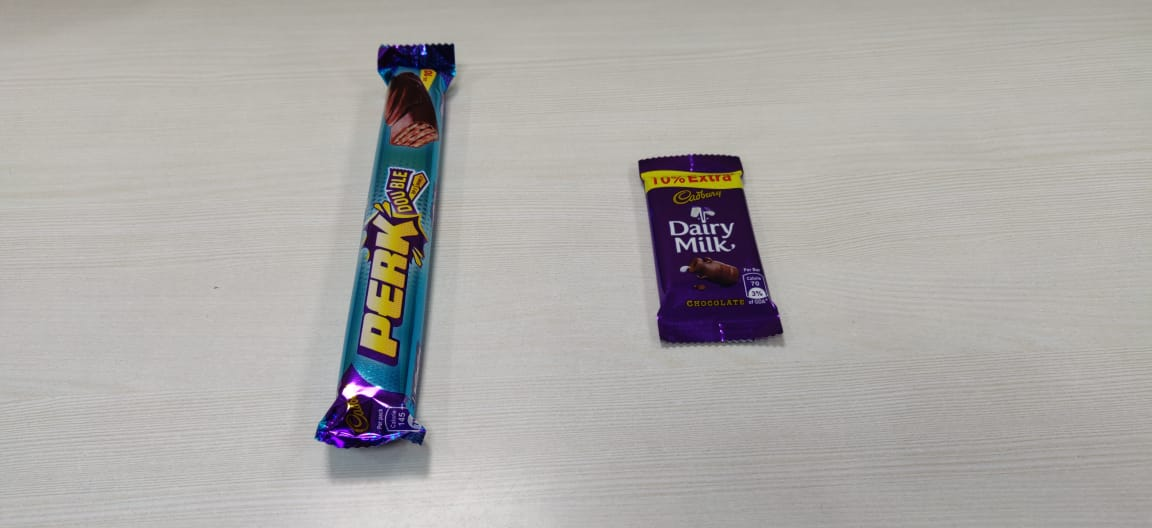dairy milk: (618, 135, 802, 376)
perk: (311, 27, 468, 475)
